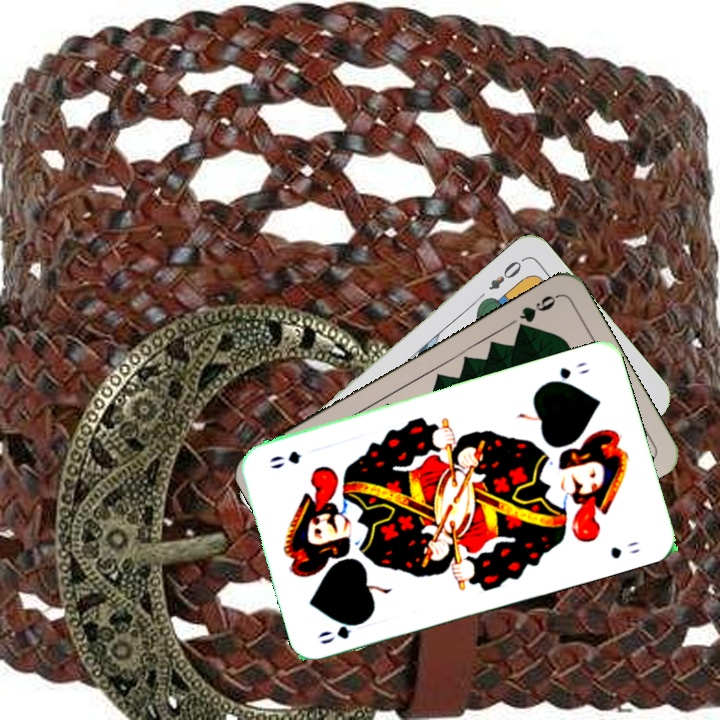EO: (484, 254, 527, 293)
G9: (513, 290, 561, 335)
GO: (313, 614, 371, 647), (541, 358, 592, 388)
